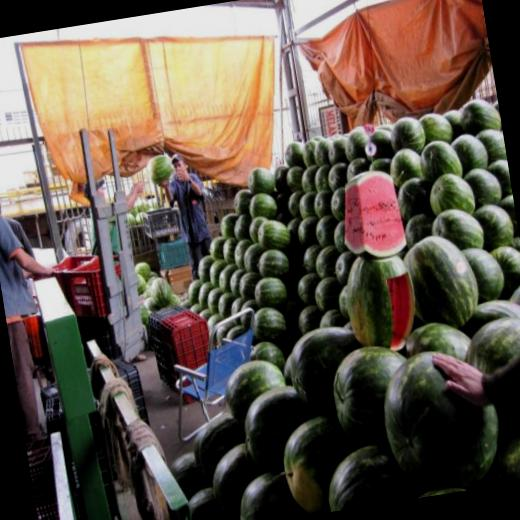Cherry: (118, 103, 520, 520), (120, 194, 165, 224)
